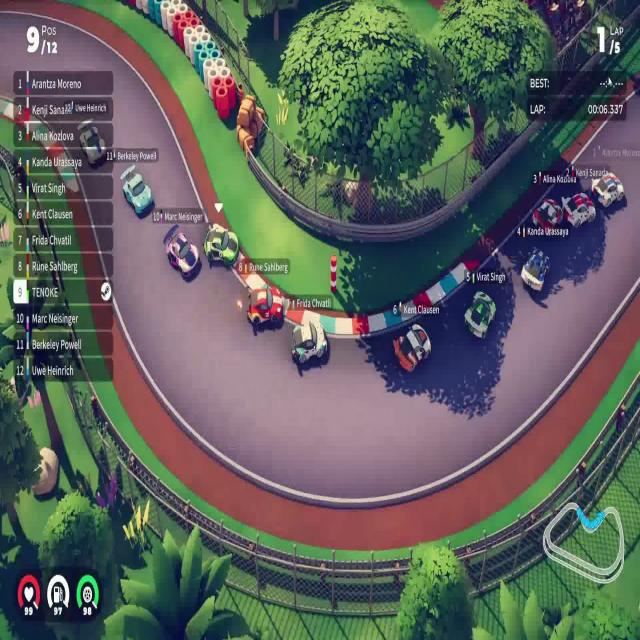car: (392, 322, 431, 374), (163, 224, 199, 279), (290, 314, 328, 366), (202, 222, 240, 269), (246, 284, 284, 330), (464, 289, 496, 341), (122, 169, 154, 217), (520, 246, 550, 292), (561, 190, 596, 229), (591, 171, 624, 209)
